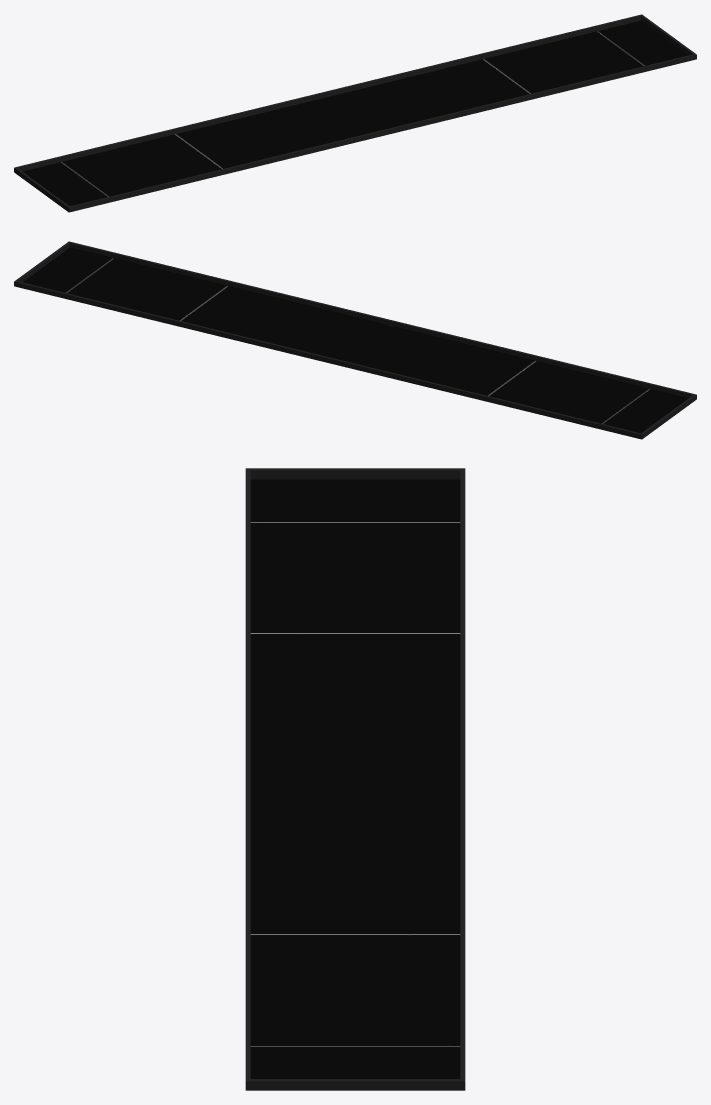
The model's file is bocce_extrude2.glb.
The picture shows the model from 3 angles, top to bottom: view 1: azimuth 30°, elevation 25°; view 2: azimuth 150°, elevation 25°; view 3: azimuth 270°, elevation 25°; orthographic projection. The views are drawn at different scales.
Visible parts, largest first — view 1: Cube; view 2: Cube; view 3: Cube.
Boxes of the visible parts, bbox=[...] form: Cube: bbox=[14, 14, 696, 212]; Cube: bbox=[14, 241, 696, 439]; Cube: bbox=[245, 468, 465, 1090].
Bounding box in the file's own units: 27.7 × 0.2 × 4.2.
2 materials, 1 textured.
